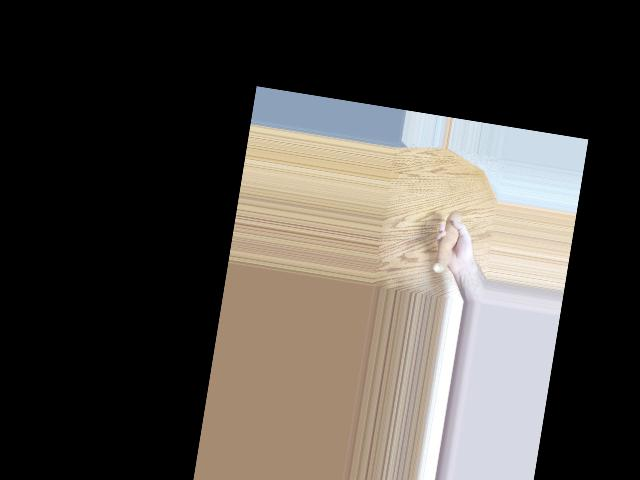sweet_potato: (433, 204, 466, 277)
